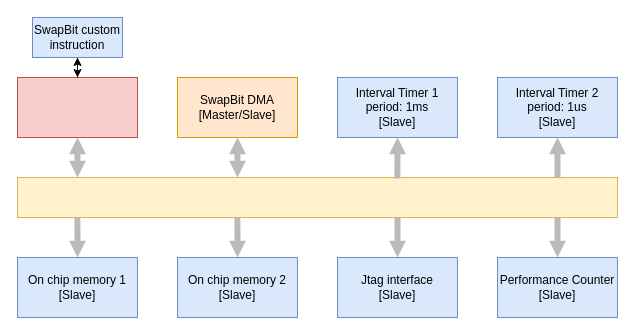
Image size: 635x335. Some labels were removed from this diagram. Here are the shapes that lost their labels. From the top down, the centre of each, then its label:
At [77,107]: "NIOS II Processor [Master]".
At [317,197]: "Avalon Bus".
